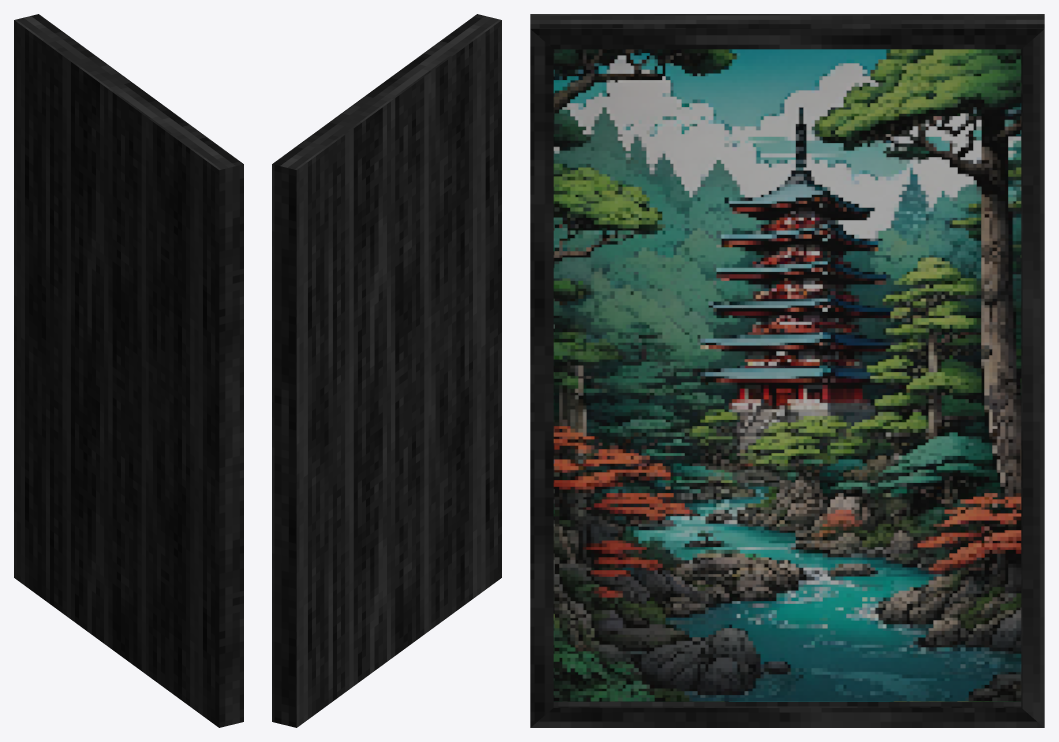
File: pixel_frame_lowpoly.fbx
3 views of the same model, side by side, from view 1: azimuth 30°, elevation 25°; view 2: azimuth 150°, elevation 25°; view 3: azimuth 270°, elevation 25° (orthographic). The views are drawn at different scales.
Parts seen in each view (by area): view 1: psx_frame_base; view 2: psx_frame_base; view 3: psx_frame_drawing, psx_frame_base.
Part boxes in pixels (box(x1,y1,x2,y2)): psx_frame_base: box(14, 14, 243, 727); psx_frame_base: box(272, 14, 501, 727); psx_frame_drawing: box(553, 49, 1021, 701); psx_frame_base: box(530, 14, 1044, 727).
Size of the model in its own units: 13.92 by 300 by 200.
